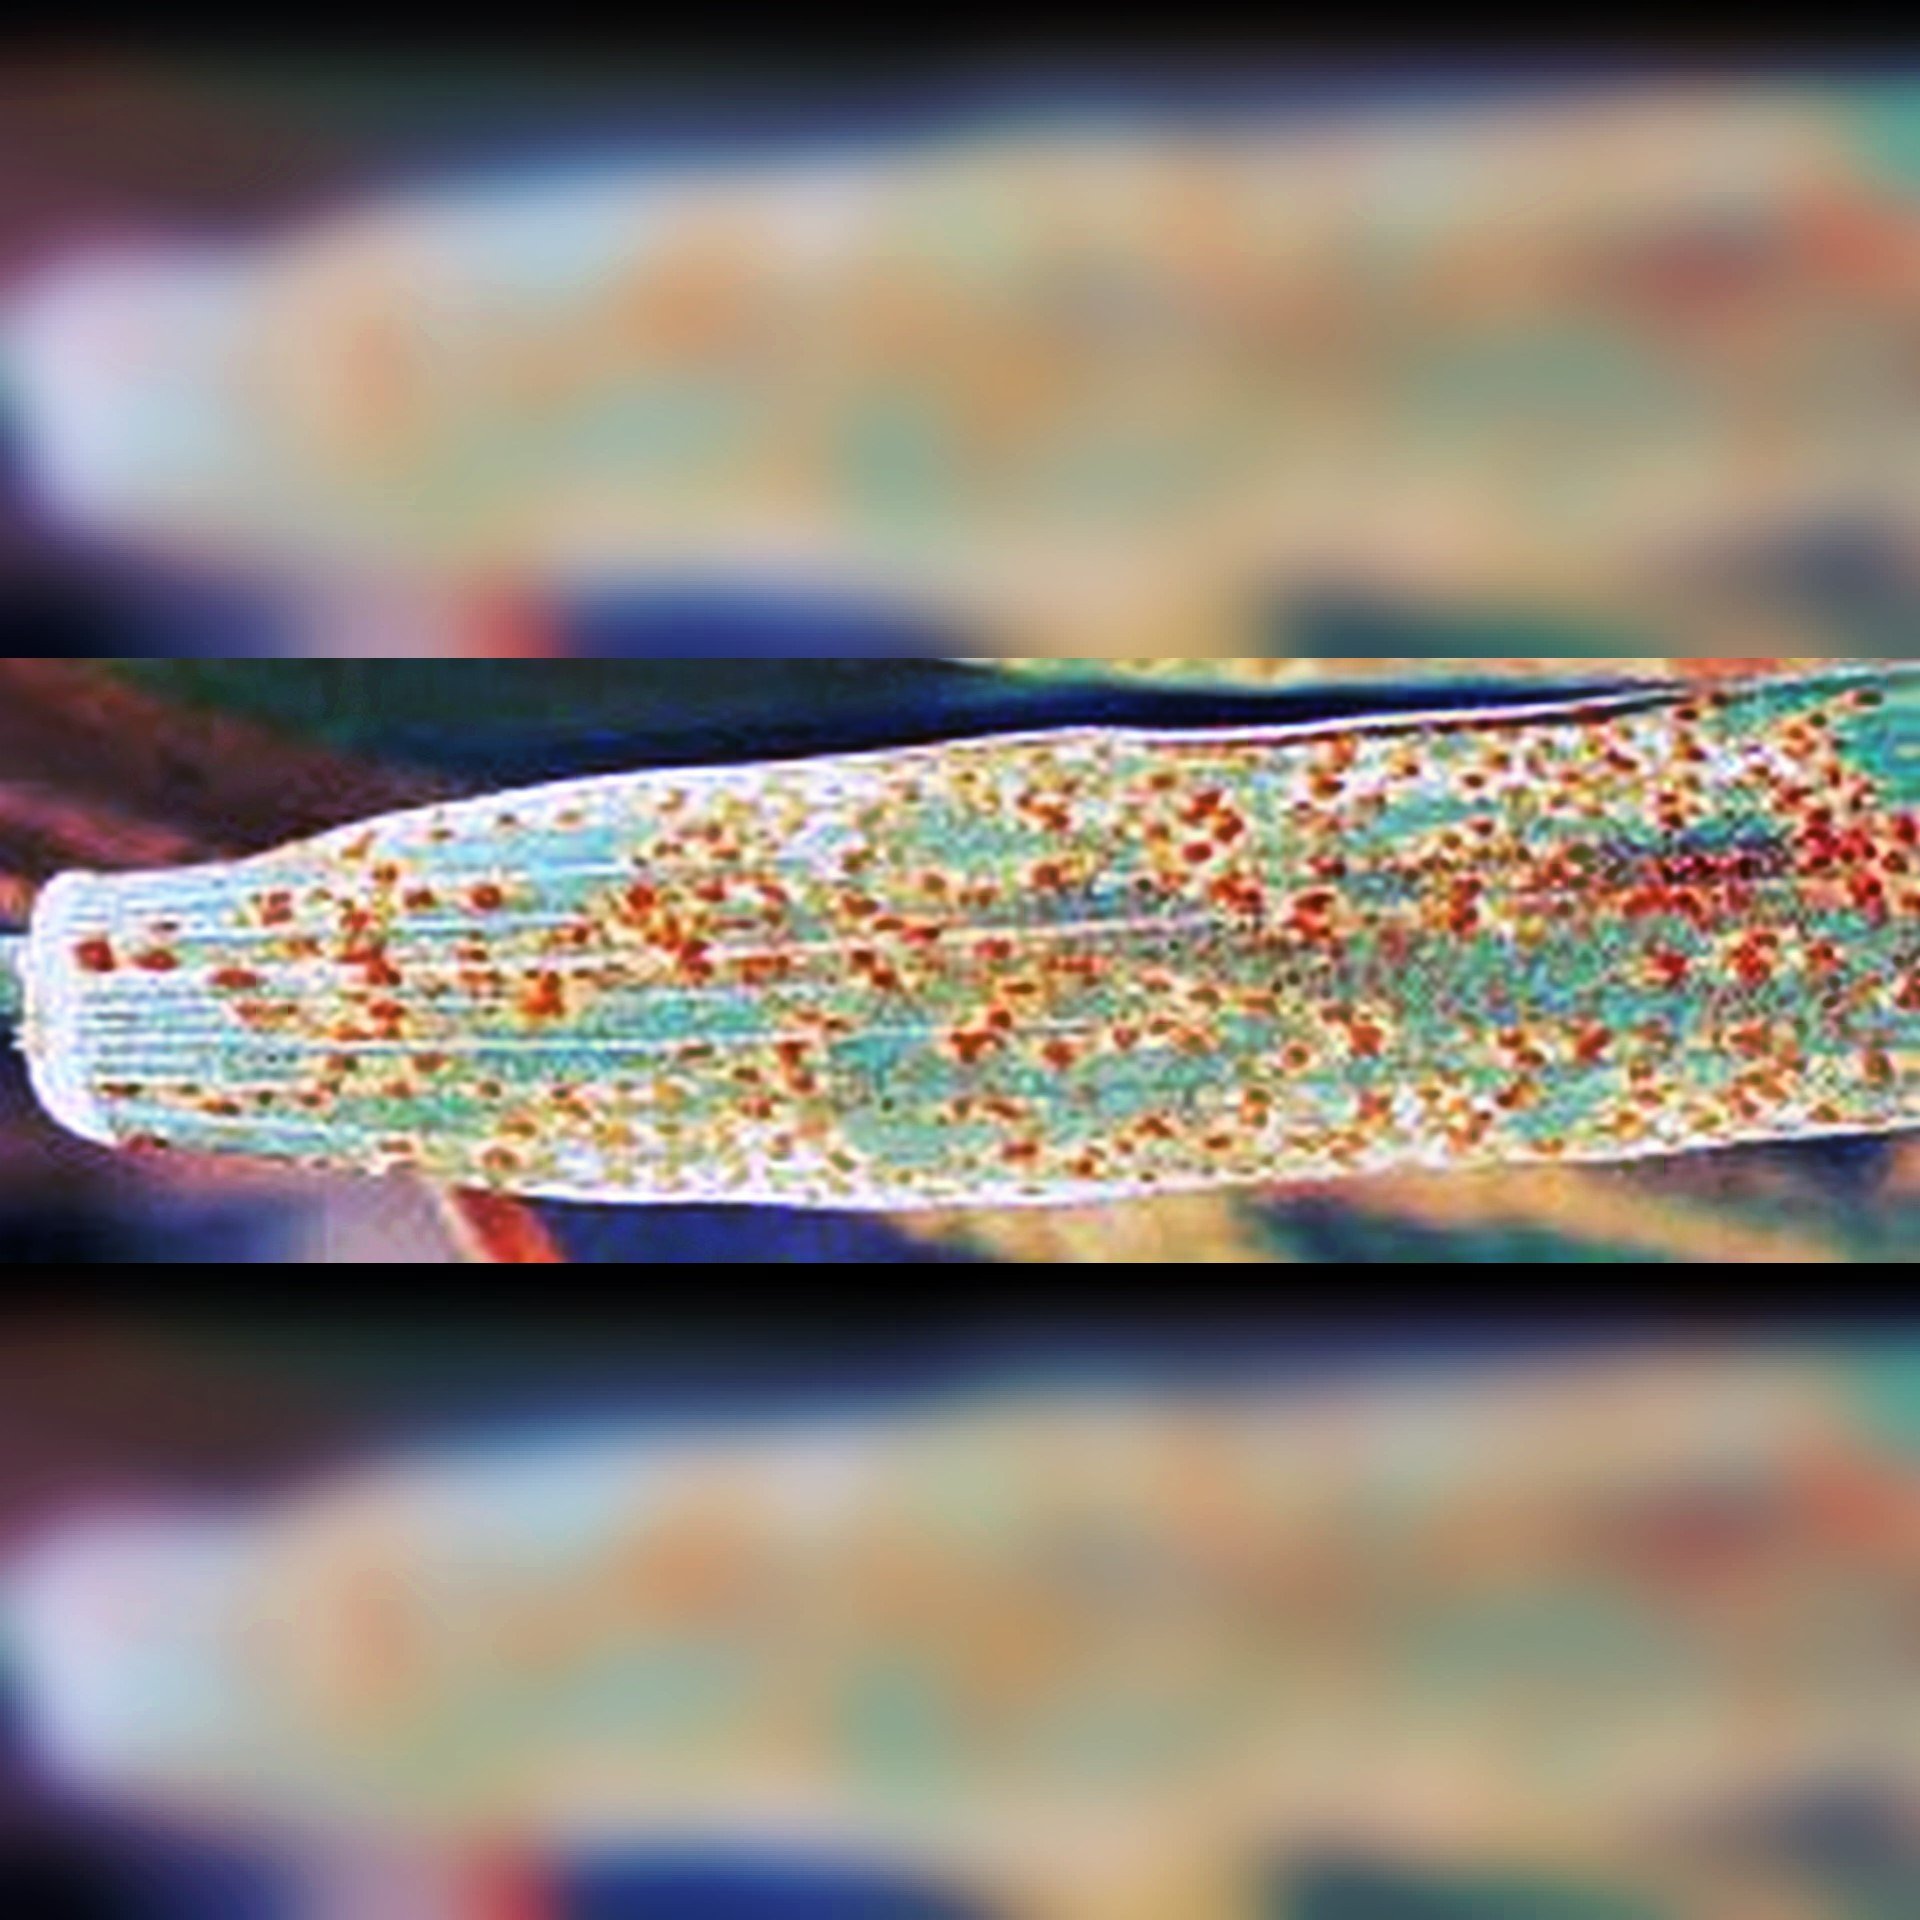Leaf Rust: (281, 673, 1895, 1204)
